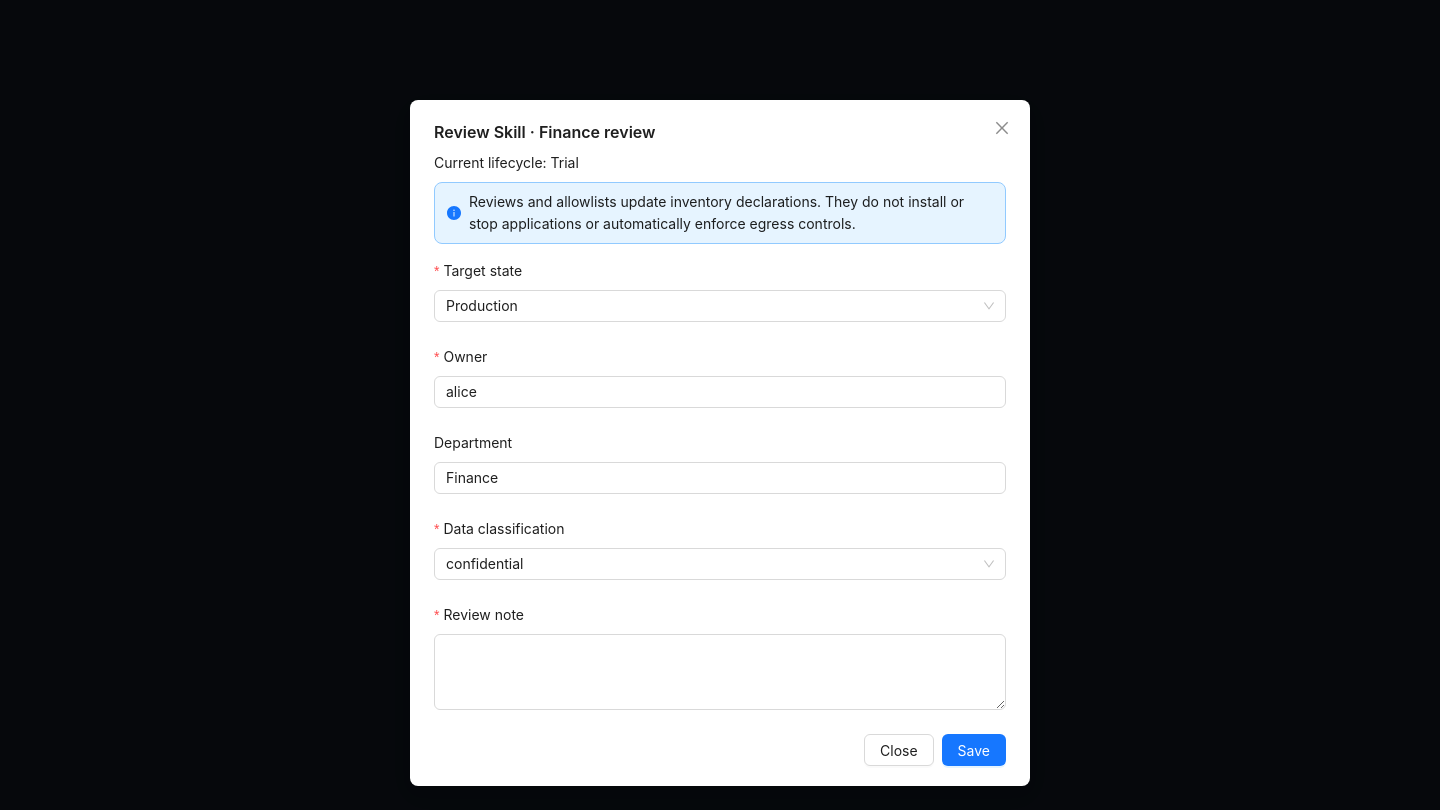
Test case: retains a conflicting draft and original revision without automatic retry
The image size is (1440, 810).
Type "Reviewed payment data" into the text box labelled "Review note" at x=720, y=672, box x1=434 y1=634 x2=1006 y2=710
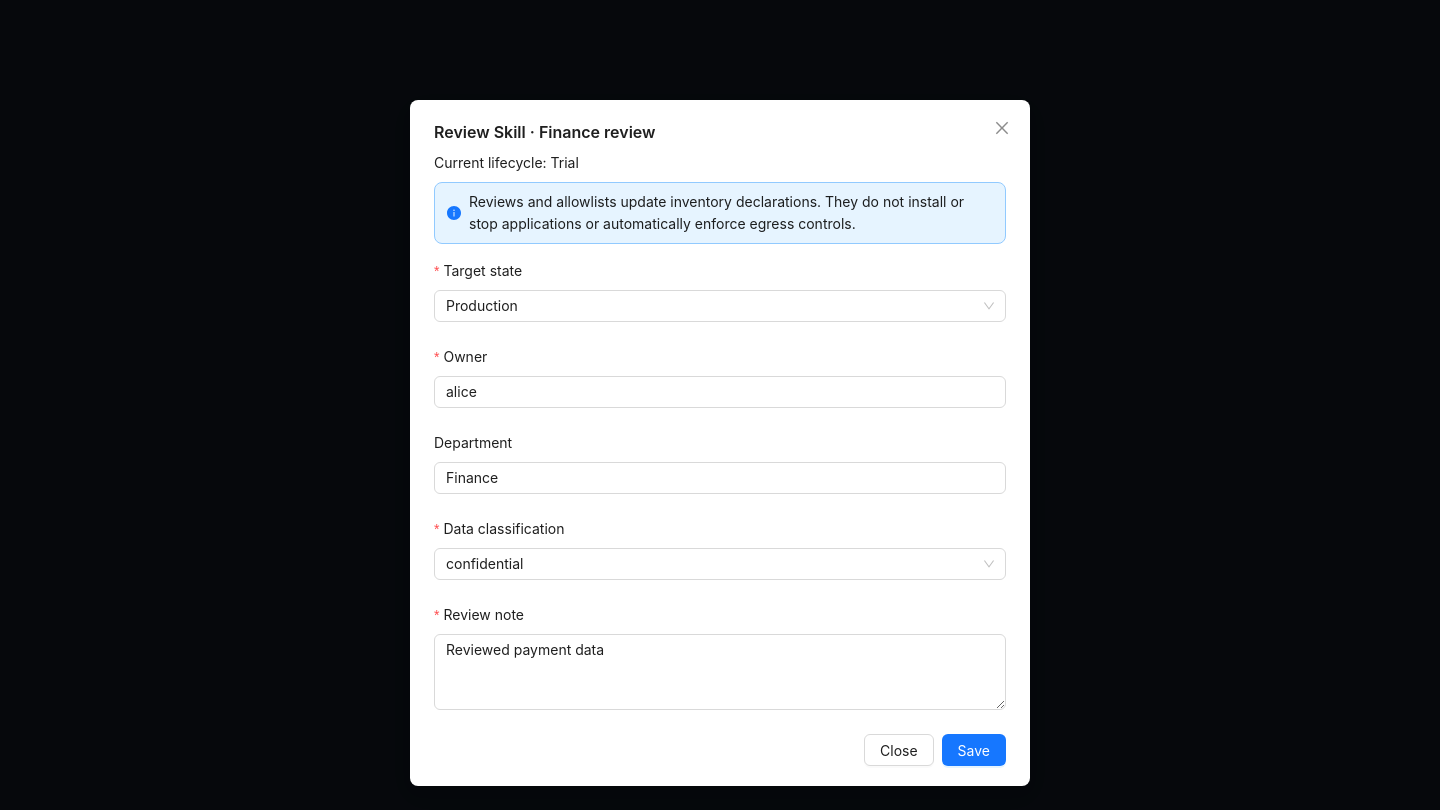
Click the button "Save" at x=974, y=750, box x1=942 y1=734 x2=1006 y2=766
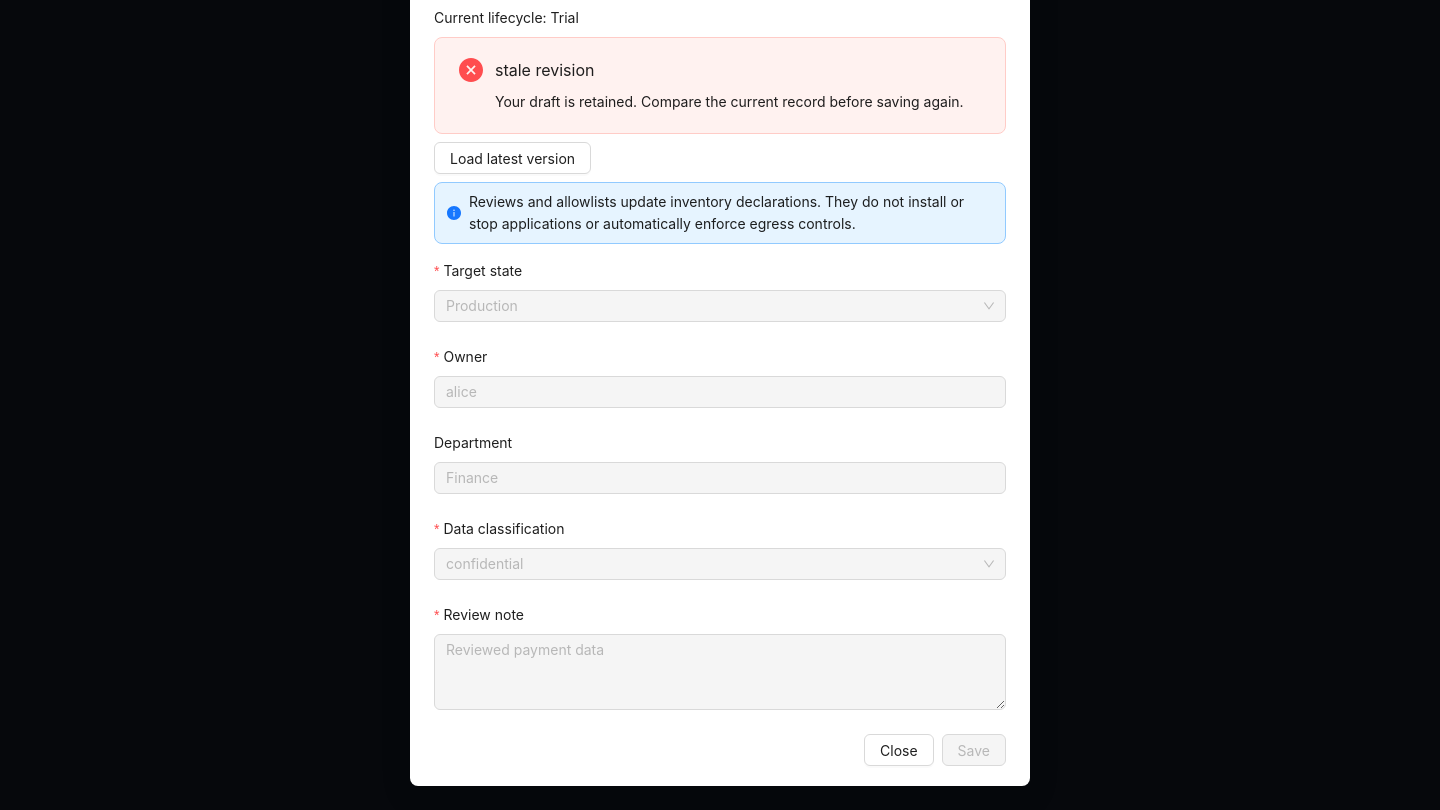
Check: the text "stale revision" is shown, box x1=495 y1=60 x2=594 y2=80
Check: the button "Save" is disabled, box x1=942 y1=734 x2=1006 y2=766
